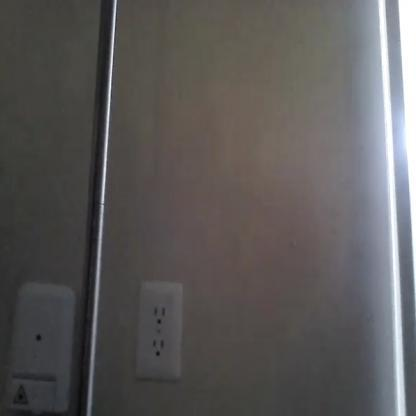OUTLET: (140, 280, 180, 378)
